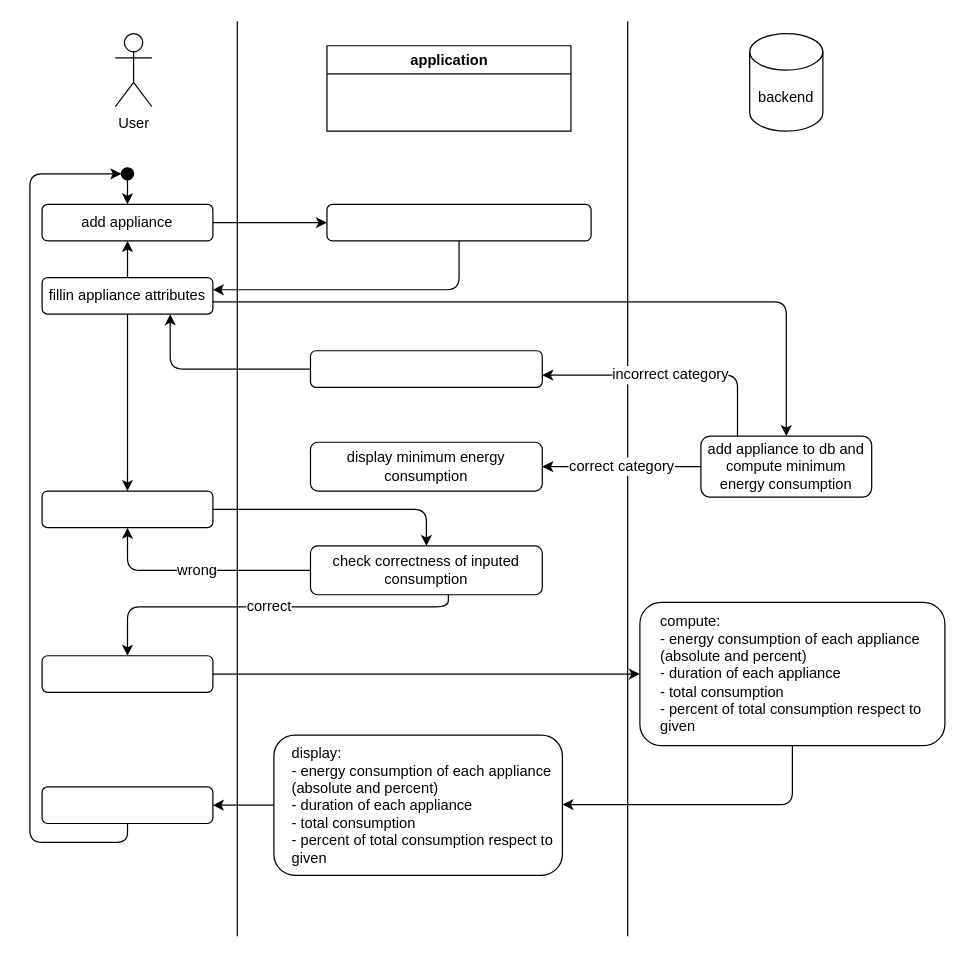
Some shapes in this 966 by 959 pixel diagram are drawn without their labels. The shapes that lost their labels are listed below. From the top down, each one's box as (x1, y1, x2, y2) in pixels, then its label:
(326, 203, 591, 241): display new appliance table line
(309, 350, 542, 387): display incorrect line
(41, 490, 213, 528): add total consumption
(41, 655, 213, 692): launch optimisation
(41, 786, 213, 824): start over
